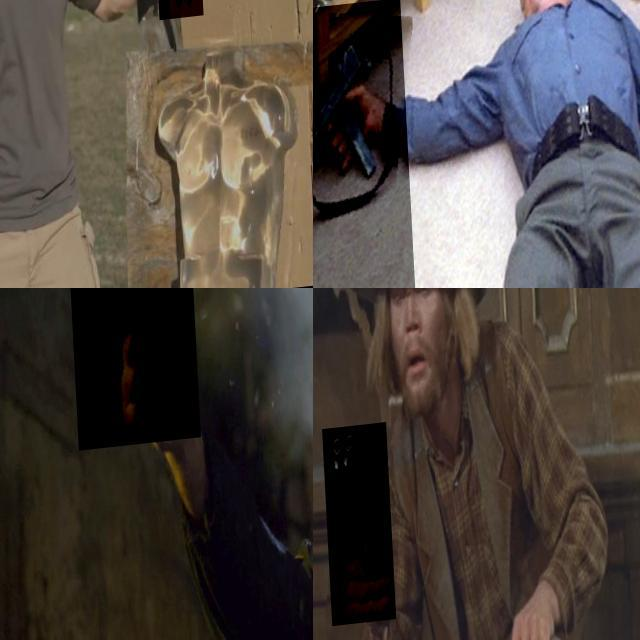-: (149, 0, 199, 74)
gun-knife-thesis - v11 Yolov5 augmented: (313, 2, 411, 288), (65, 288, 197, 454), (318, 428, 391, 632)
